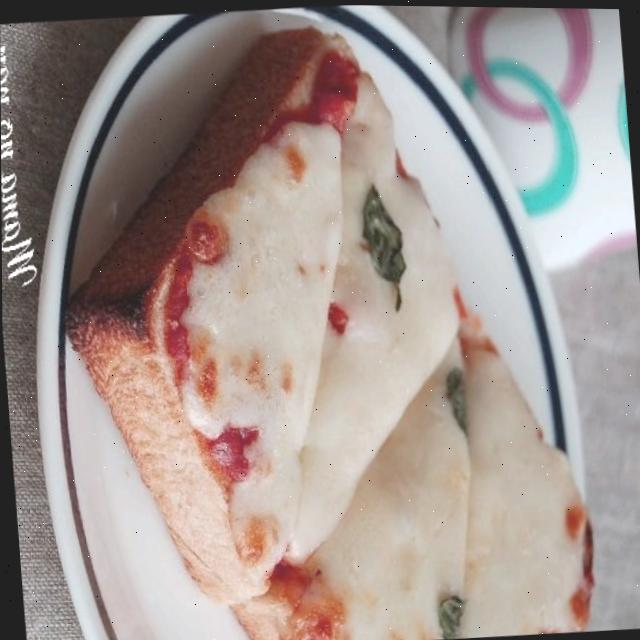面包点心: (16, 0, 624, 640)
